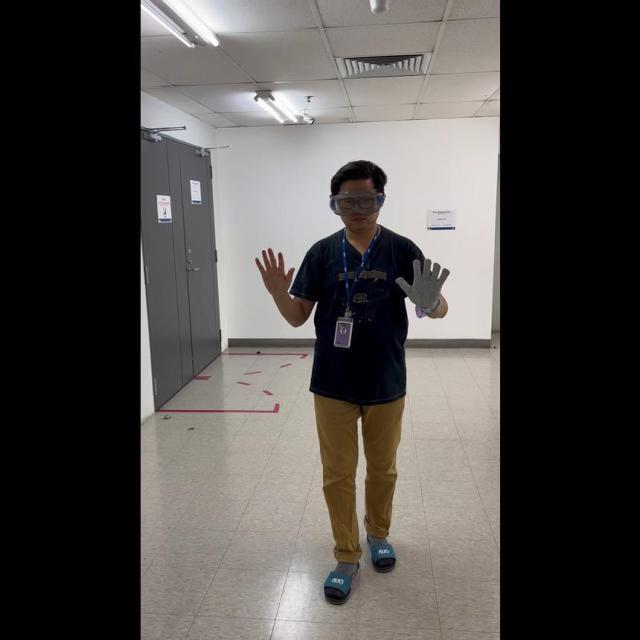bare_hand: (252, 243, 294, 295)
gloved_hand: (394, 254, 448, 315)
